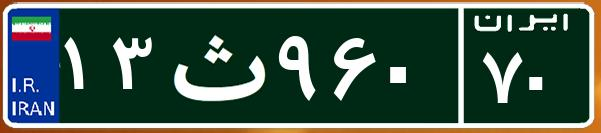0: (385, 28, 445, 110), (525, 38, 570, 115)
1: (57, 26, 110, 107)
3: (110, 28, 158, 105)
6: (330, 28, 385, 110)
7: (475, 38, 525, 113)
9: (273, 28, 330, 110)
ث: (158, 15, 273, 115)
